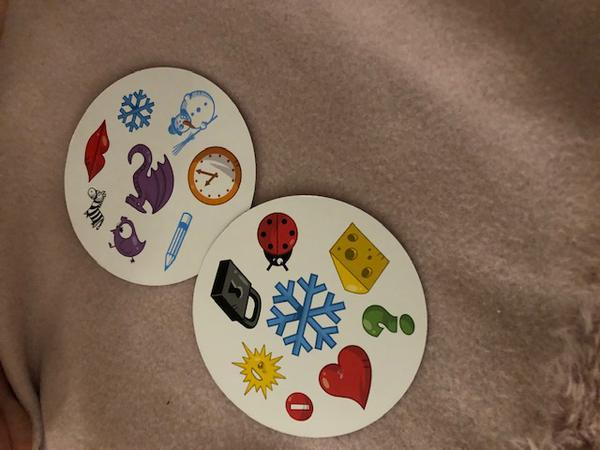bonhomme_neige: (166, 89, 220, 157)
bouche: (80, 120, 111, 181)
cadenas: (210, 255, 265, 333)
coccinelle: (252, 209, 305, 273)
coeur: (314, 344, 375, 409)
crayon: (159, 207, 195, 274)
dragon: (121, 144, 175, 219)
flocon: (264, 269, 346, 355), (115, 85, 156, 135)
fromage: (326, 219, 390, 297)
horloge: (187, 143, 243, 208)
oiseau: (104, 216, 148, 265)
point_interrogation: (357, 300, 415, 342)
sens_interdit: (283, 390, 318, 423)
soleil: (228, 341, 288, 401)
zebre: (82, 184, 108, 231)
